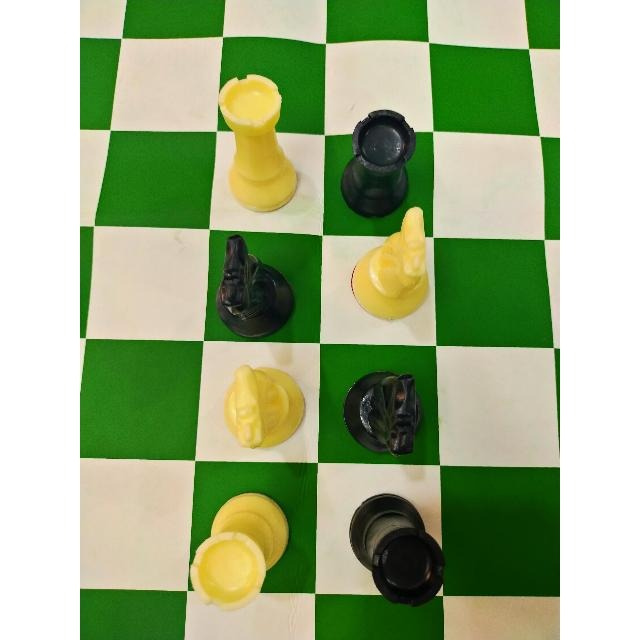black-knight: (214, 234, 302, 336), (331, 366, 423, 459)
black-rook: (339, 492, 453, 608), (338, 111, 430, 216)
white-knight: (338, 202, 448, 319), (213, 364, 309, 452)
white-rook: (181, 489, 296, 617), (211, 71, 303, 215)
